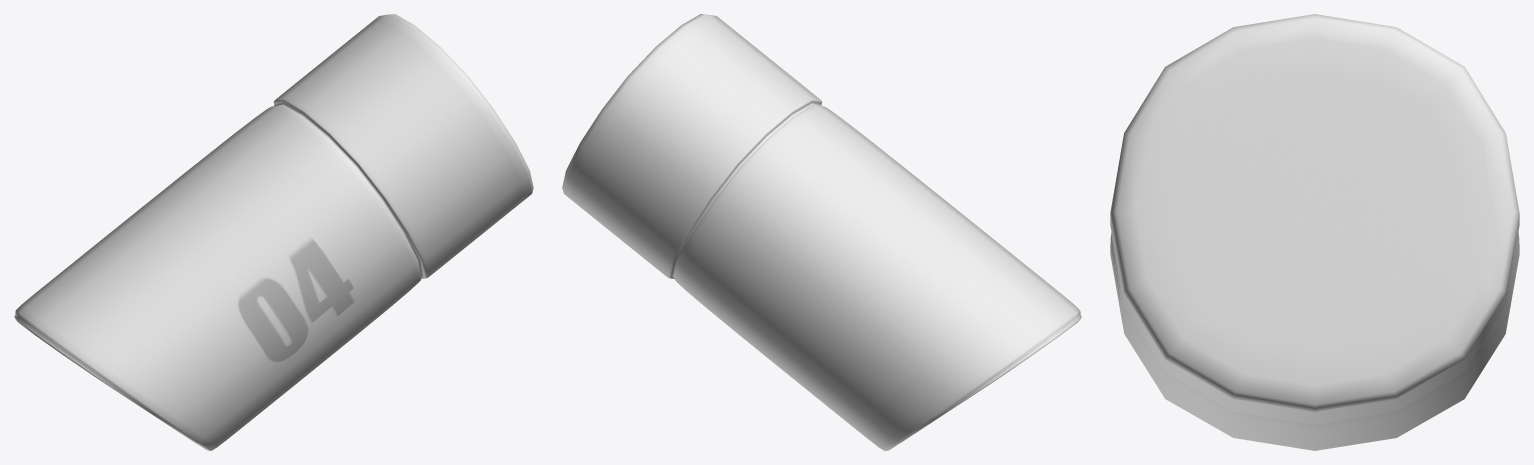
The model's file is BossMonitor.fbx.
3 renders of one model, left to right at view 1: azimuth 30°, elevation 25°; view 2: azimuth 150°, elevation 25°; view 3: azimuth 270°, elevation 25°, orthographic. The views are drawn at different scales.
Parts seen in each view (by area): view 1: pCube15; view 2: pCube15; view 3: pCube15.
Boxes of the visible parts, box(x1,y1,x2,y2) form: pCube15: box(14, 14, 533, 450); pCube15: box(562, 14, 1081, 450); pCube15: box(1110, 14, 1519, 450).
Size of the model in its own units: 2.72 by 1.96 by 1.16.
1 material, 1 textured.
